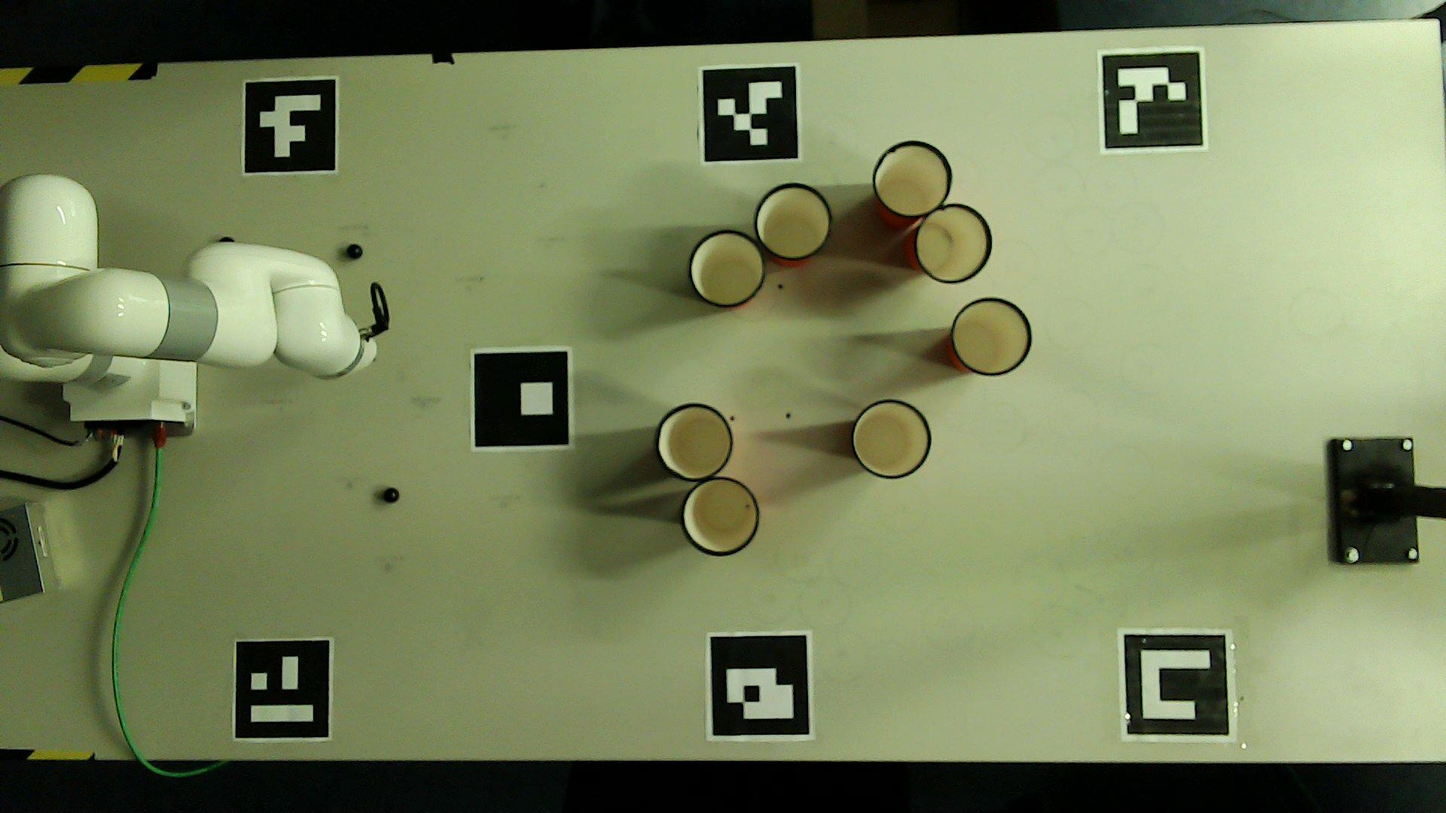ball: (348, 246, 362, 258), (385, 489, 398, 501)
cup: (852, 401, 930, 478), (953, 300, 1030, 375), (682, 480, 758, 554), (658, 405, 732, 480), (875, 141, 950, 215), (755, 184, 830, 258), (917, 205, 989, 281), (691, 231, 763, 306)
